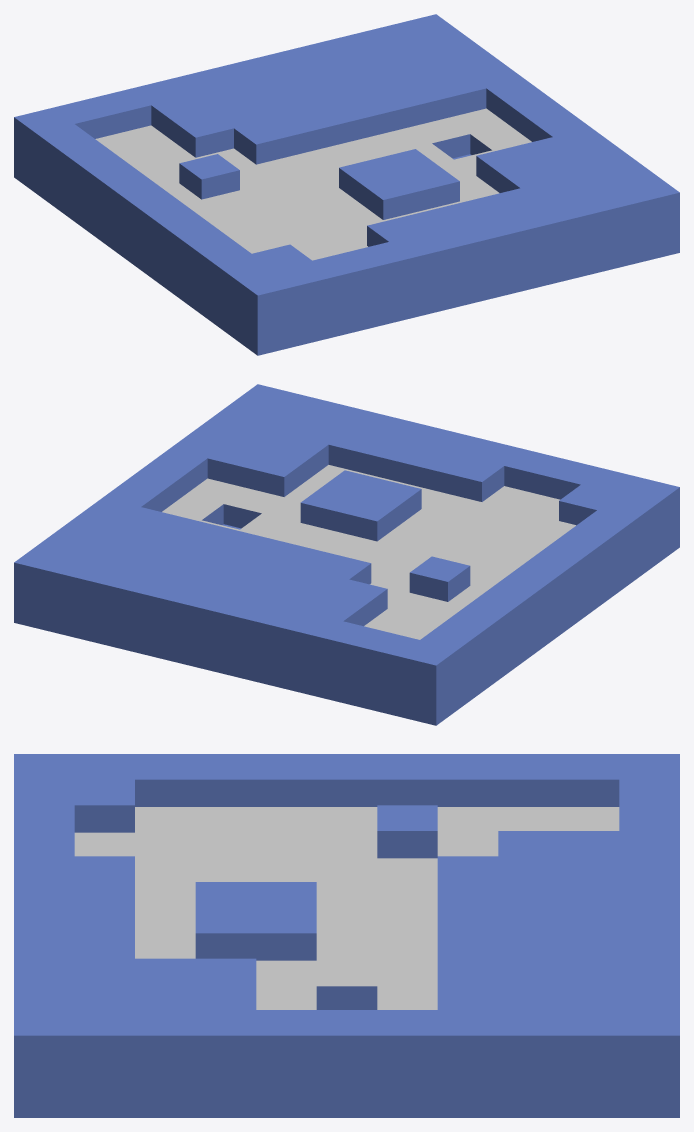
Rendered from 032_platform.fbx.
3 views of the same model, one above another, from view 1: azimuth 30°, elevation 25°; view 2: azimuth 150°, elevation 25°; view 3: azimuth 270°, elevation 25° (orthographic). The views are drawn at different scales.
Visible parts, largest first — view 1: Cube; view 2: Cube; view 3: Cube.
Boxes of the visible parts, x1=… form: Cube: x1=14, y1=14, x2=679, y2=355; Cube: x1=14, y1=384, x2=679, y2=725; Cube: x1=14, y1=754, x2=679, y2=1117.
Size of the model in its own units: 1100 by 150 by 1100.
